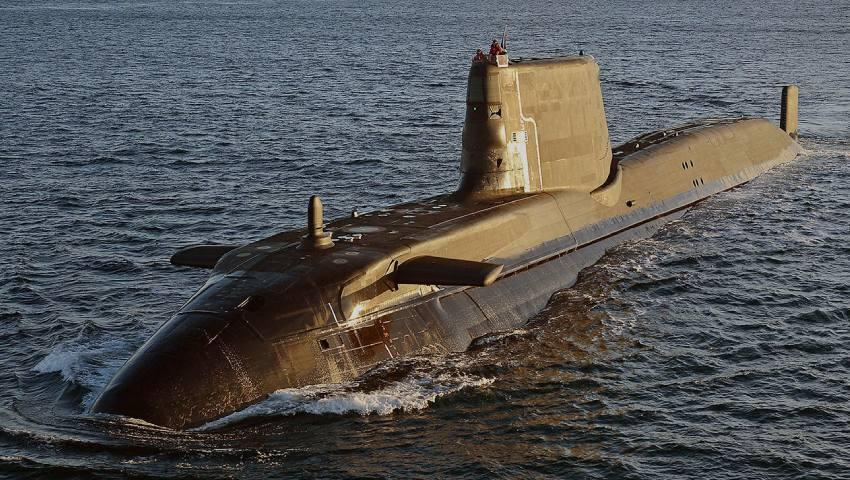Submarine: (64, 16, 846, 480)
